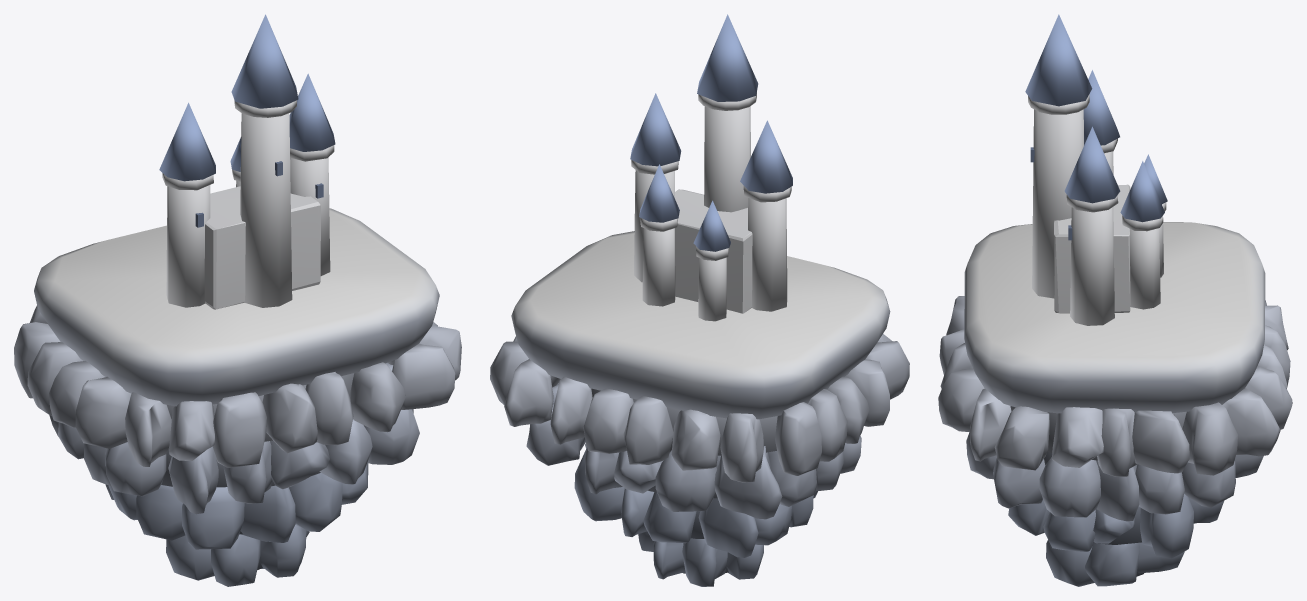
The model's file is far_castle.glb.
3 views of the same model, side by side, from view 1: azimuth 30°, elevation 25°; view 2: azimuth 150°, elevation 25°; view 3: azimuth 270°, elevation 25° (orthographic). The views are drawn at different scales.
Visible parts, largest first — view 1: far_castle; view 2: far_castle; view 3: far_castle.
Part boxes in pixels (x1,y1,x2,y2): far_castle: [14, 14, 461, 586]; far_castle: [490, 14, 909, 586]; far_castle: [938, 14, 1292, 586].
Bounding box in the file's own units: 3.63 × 5.46 × 3.17.
